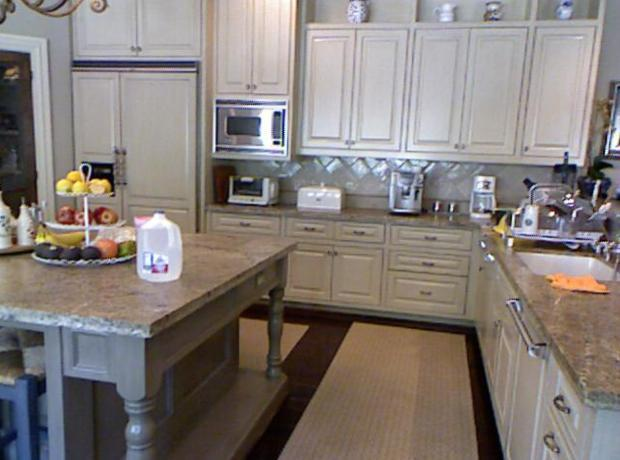Lavaplatos: (506, 202, 616, 298)
